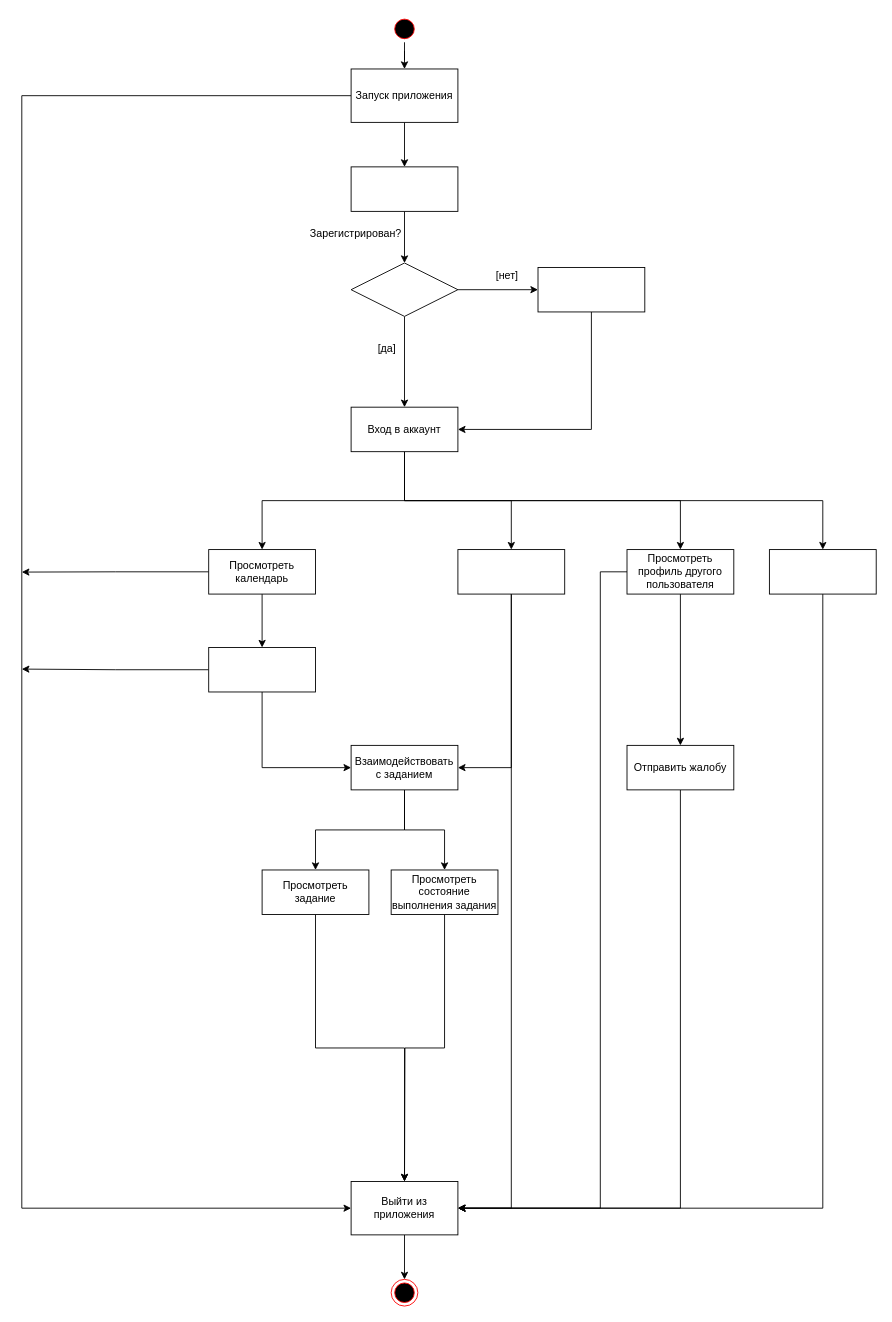
The diagram is 892 pixels wide and 1322 high, and some of its shapes have lost their labels. Here are the shapes that lost their labels. From the top down, the centre of each, then its label:
At point 404,188: "Войти в аккаунт".
At point 591,289: "Регистрация".
At point 511,571: "Просмотреть список заданий".
At point 822,571: "Настроить профиль".
At point 262,669: "Просмотреть конкретный день".
